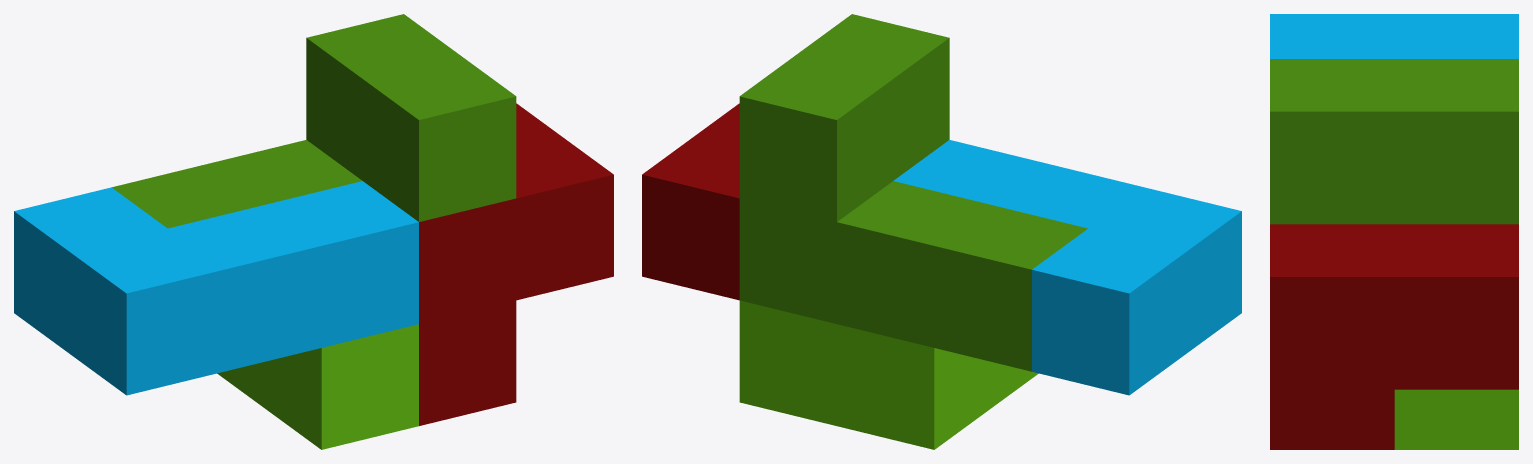
3 views of the same model, side by side, from view 1: azimuth 30°, elevation 25°; view 2: azimuth 150°, elevation 25°; view 3: azimuth 270°, elevation 25° (orthographic). The views are drawn at different scales.
Parts seen in each view (by area): view 1: mergedBlocks(Clone); view 2: mergedBlocks(Clone); view 3: mergedBlocks(Clone).
Part boxes in pixels (x1=…): mergedBlocks(Clone): x1=14, y1=14, x2=613, y2=449; mergedBlocks(Clone): x1=642, y1=14, x2=1241, y2=449; mergedBlocks(Clone): x1=1270, y1=14, x2=1518, y2=449.
Size of the model in its own units: 5 by 3 by 2.
4 materials, 4 textured.
